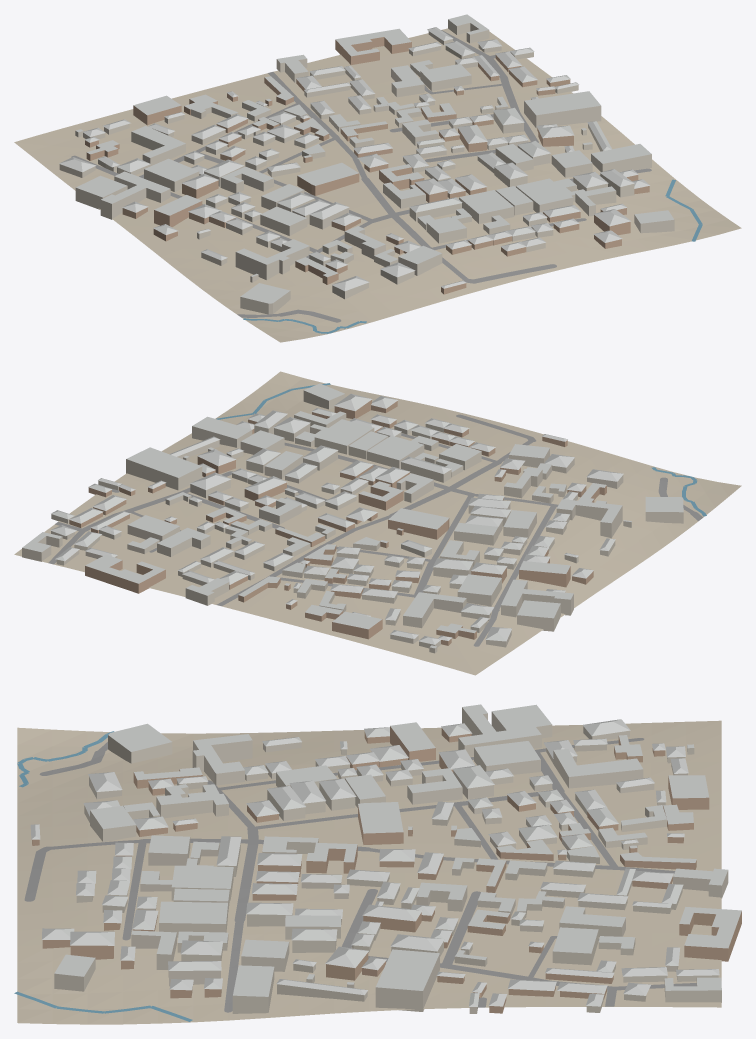
File: bolak_6_1.glb
3 renders of one model, top to bottom at view 1: azimuth 30°, elevation 25°; view 2: azimuth 150°, elevation 25°; view 3: azimuth 270°, elevation 25°, orthographic. The views are drawn at different scales.
Parts seen in each view (by area): view 1: Yer_Tuproq-col, Tom_Shifer, Devor_Suvoq-col, Devor_Gisht-col, Yol_Mahalla-col, Suv; view 2: Yer_Tuproq-col, Tom_Shifer, Devor_Suvoq-col, Devor_Gisht-col, Yol_Mahalla-col, Suv; view 3: Yer_Tuproq-col, Tom_Shifer, Devor_Suvoq-col, Devor_Gisht-col, Yol_Mahalla-col, Suv.
Boxes of the visible parts, left/top/right/bottom form: Yer_Tuproq-col: left=14, top=28, right=741, bottom=342; Tom_Shifer: left=59, top=14, right=673, bottom=303; Devor_Suvoq-col: left=59, top=19, right=674, bottom=314; Devor_Gisht-col: left=85, top=37, right=649, bottom=294; Yol_Mahalla-col: left=71, top=30, right=651, bottom=322; Suv: left=243, top=179, right=702, bottom=333; Yer_Tuproq-col: left=14, top=371, right=741, bottom=675; Tom_Shifer: left=22, top=383, right=683, bottom=648; Devor_Suvoq-col: left=22, top=390, right=683, bottom=653; Devor_Gisht-col: left=69, top=400, right=606, bottom=645; Yol_Mahalla-col: left=48, top=414, right=702, bottom=646; Suv: left=216, top=383, right=706, bottom=516; Yer_Tuproq-col: left=17, top=720, right=721, bottom=1024; Tom_Shifer: left=30, top=704, right=741, bottom=1006; Devor_Suvoq-col: left=54, top=707, right=728, bottom=1013; Devor_Gisht-col: left=32, top=726, right=741, bottom=1013; Yol_Mahalla-col: left=24, top=738, right=696, bottom=1012; Suv: left=14, top=731, right=192, bottom=1021.
Size of what is drawn, in the model's own units: 415 by 25.84 by 413.
